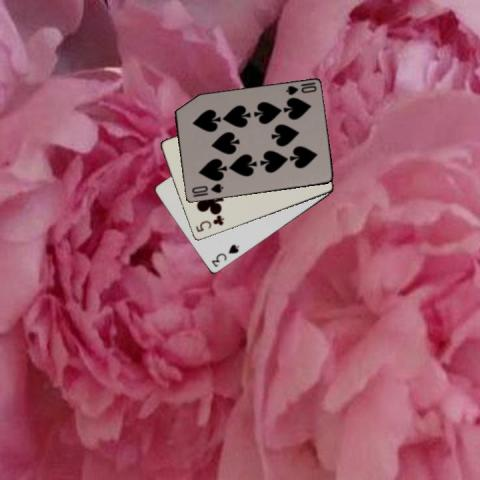10s: (189, 181, 224, 195), (283, 82, 318, 96)
3s: (209, 241, 240, 269)
5c: (193, 213, 225, 234)
